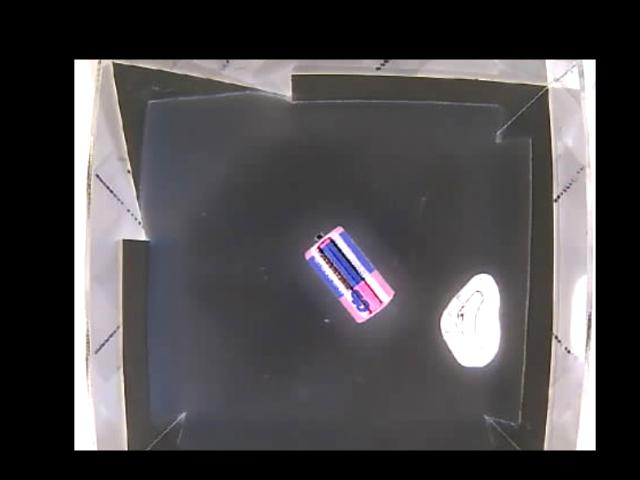Battery: (304, 223, 395, 324)
Pebble: (440, 273, 501, 364)
